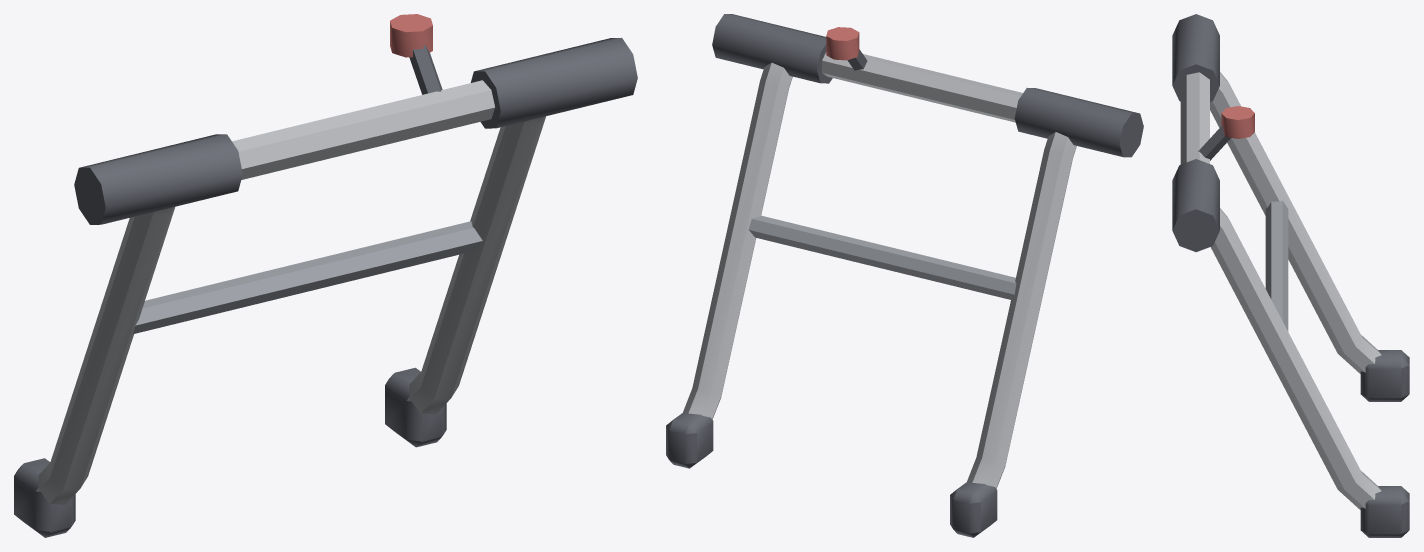
Rendered from mower_handle.gltf.
3 renders of one model, left to right at view 1: azimuth 30°, elevation 25°; view 2: azimuth 150°, elevation 25°; view 3: azimuth 270°, elevation 25°, orthographic. The views are drawn at different scales.
Parts seen in each view (by area): view 1: mower_handle; view 2: mower_handle; view 3: mower_handle.
Boxes of the visible parts, bbox=[...] form: mower_handle: bbox=[14, 14, 637, 537]; mower_handle: bbox=[666, 14, 1143, 537]; mower_handle: bbox=[1172, 14, 1409, 537].
Size of the model in its own units: 0.66 by 0.605 by 0.339.
